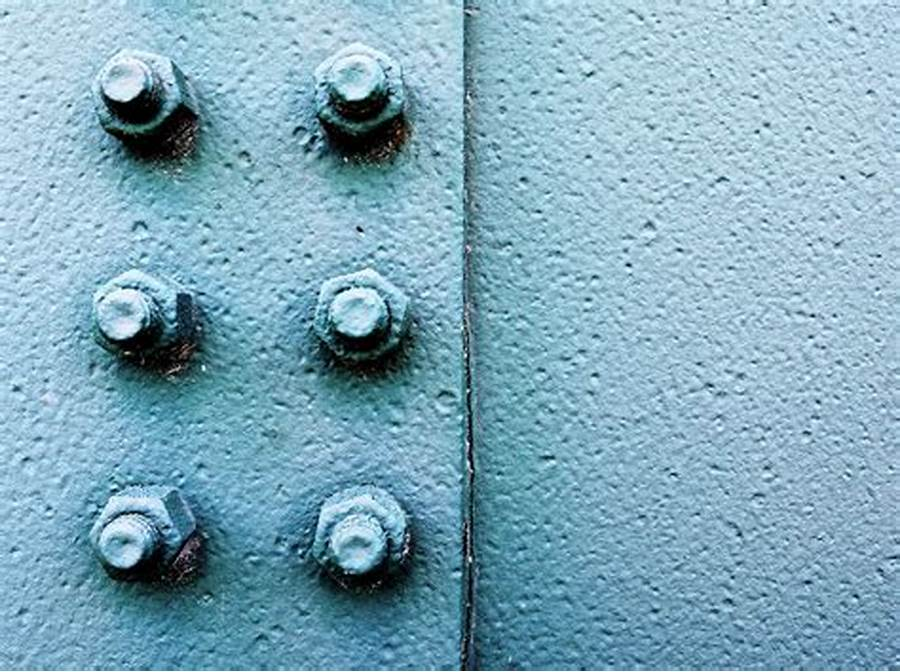bolt_b: (86, 264, 195, 374), (88, 482, 198, 588), (308, 488, 414, 597), (86, 44, 197, 148), (312, 269, 414, 370), (309, 44, 407, 145)
